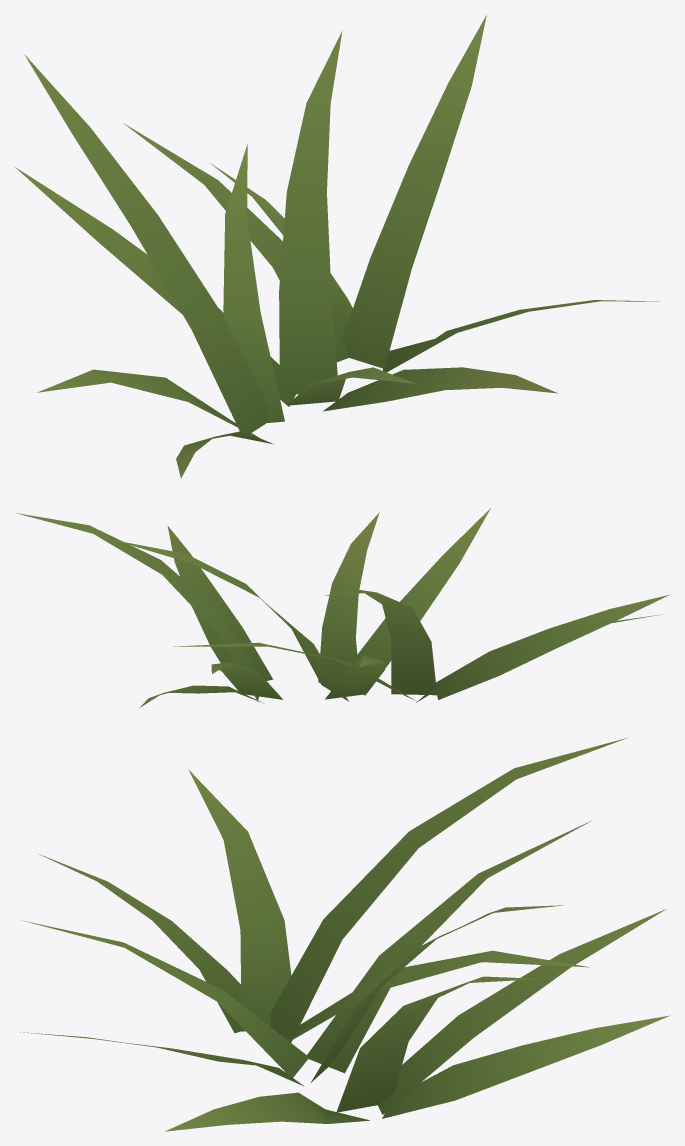
Rendered from grass_short_C.glb.
3 views of the same model, one above another, from view 1: azimuth 30°, elevation 25°; view 2: azimuth 150°, elevation 25°; view 3: azimuth 270°, elevation 25° (orthographic). The views are drawn at different scales.
Visible parts, largest first — view 1: grass_short_C; view 2: grass_short_C; view 3: grass_short_C.
Boxes of the visible parts, x1,y1,x2,y2 form: grass_short_C: (15, 14, 659, 478); grass_short_C: (16, 508, 670, 707); grass_short_C: (20, 738, 669, 1131).
Bounding box in the file's own units: 0.3697 × 0.1487 × 0.3304.
